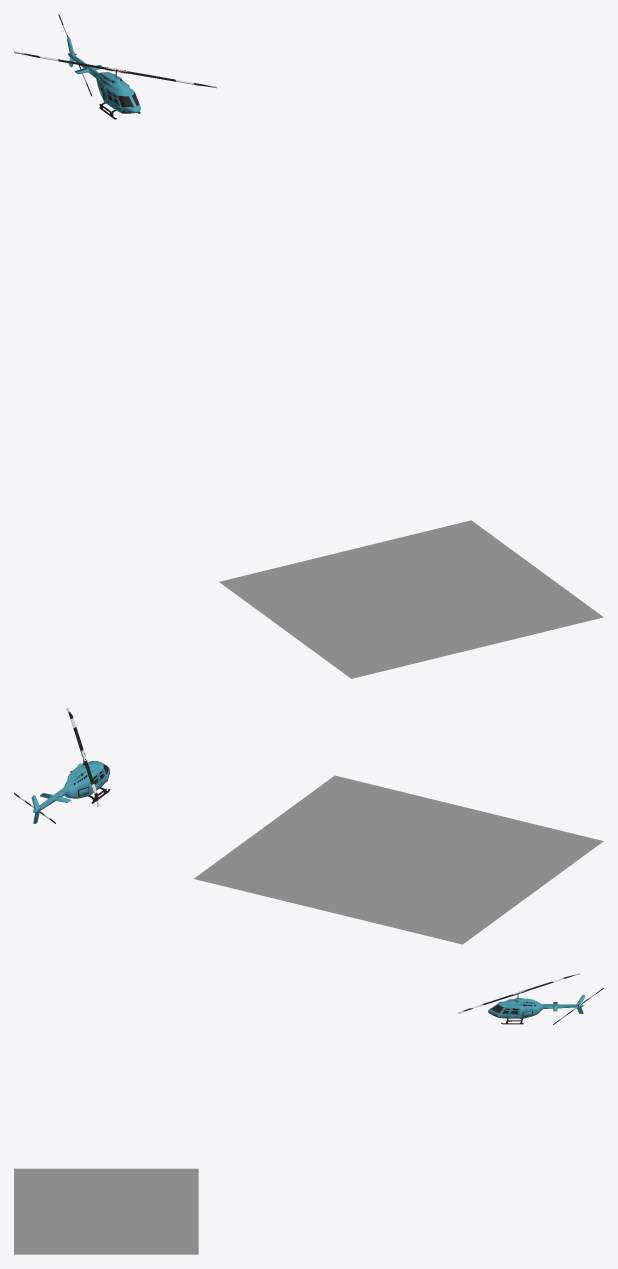
Rendered from Heli_bell.glb.
3 renders of one model, top to bottom at view 1: azimuth 30°, elevation 25°; view 2: azimuth 150°, elevation 25°; view 3: azimuth 270°, elevation 25°, orthographic. The views are drawn at different scales.
Parts seen in each view (by area): view 1: tanah, body_helicopter; view 2: tanah, body_helicopter, baling baling_1; view 3: tanah, body_helicopter.
Boxes of the visible parts, left/top/right/bottom form: tanah: left=219, top=520, right=603, bottom=678; body_helicopter: left=67, top=37, right=140, bottom=119; tanah: left=194, top=775, right=603, bottom=944; body_helicopter: left=31, top=761, right=110, bottom=823; baling baling_1: left=66, top=707, right=99, bottom=806; tanah: left=14, top=1168, right=198, bottom=1254; body_helicopter: left=488, top=994, right=585, bottom=1024.
Size of the model in its own units: 37.68 by 46.1 by 109.
